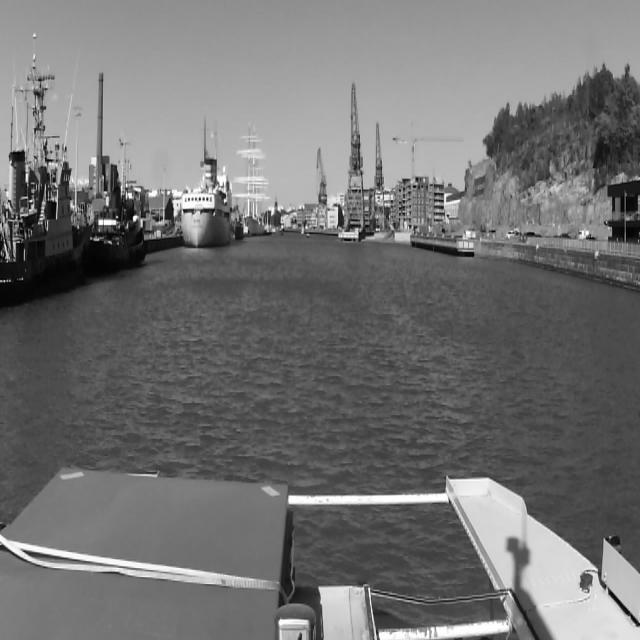ship: (0, 28, 90, 298), (80, 132, 148, 274), (182, 117, 230, 251), (243, 121, 264, 236), (230, 204, 244, 240)
